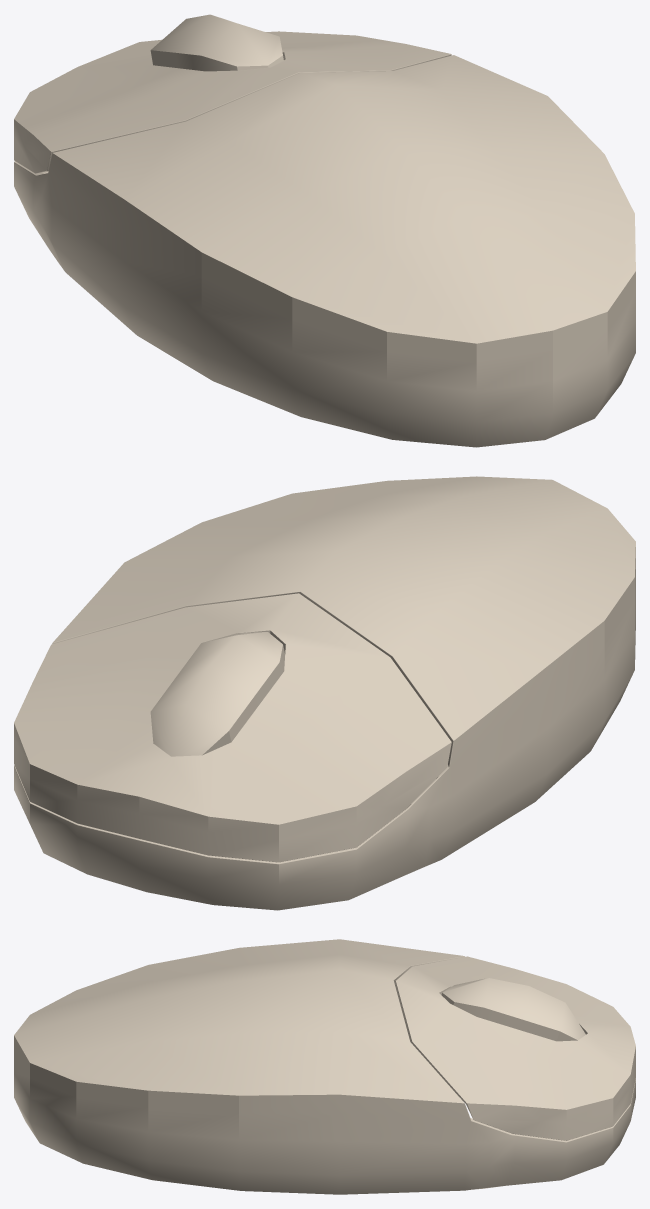
File: 3D_pc_mouse.fbx
The picture shows the model from 3 angles, top to bottom: view 1: azimuth 30°, elevation 25°; view 2: azimuth 150°, elevation 25°; view 3: azimuth 270°, elevation 25°; orthographic projection. The views are drawn at different scales.
Visible parts, largest first — view 1: pc_mouse, pc_wheel; view 2: pc_mouse, pc_wheel; view 3: pc_mouse, pc_wheel.
Part boxes in pixels (x1=…): pc_mouse: x1=14, y1=31, x2=635, y2=447; pc_wheel: x1=150, y1=14, x2=283, y2=71; pc_mouse: x1=14, y1=476, x2=635, y2=910; pc_wheel: x1=150, y1=632, x2=285, y2=756; pc_mouse: x1=14, y1=939, x2=635, y2=1194; pc_wheel: x1=441, y1=978, x2=585, y2=1041.
Bounding box in the file's own units: 21.55 × 10.46 × 36.43.
